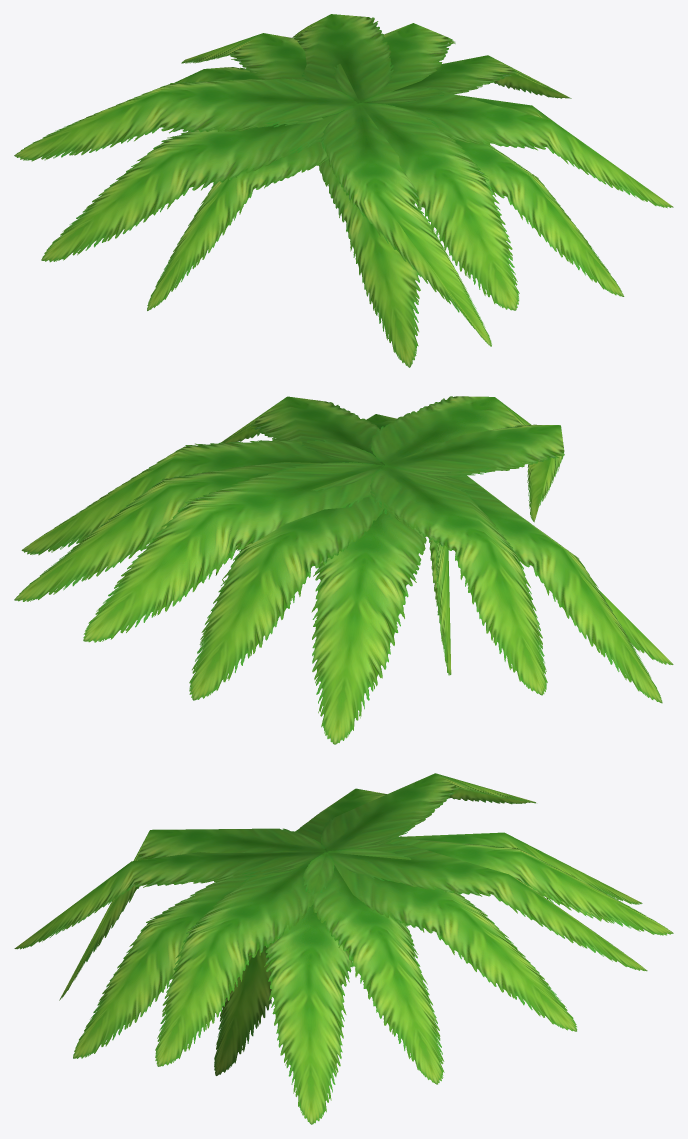
Rendered from PalmCrownMesh113Shape.dae.
3 views of the same model, one above another, from view 1: azimuth 30°, elevation 25°; view 2: azimuth 150°, elevation 25°; view 3: azimuth 270°, elevation 25° (orthographic). The views are drawn at different scales.
Parts seen in each view (by area): view 1: PalmCrownMesh113; view 2: PalmCrownMesh113; view 3: PalmCrownMesh113.
Part boxes in pixels (x1,y1,x2,y2): PalmCrownMesh113: [14, 14, 673, 367]; PalmCrownMesh113: [14, 396, 673, 744]; PalmCrownMesh113: [14, 773, 673, 1124].
Bounding box in the file's own units: 19.43 × 7.82 × 19.95.
